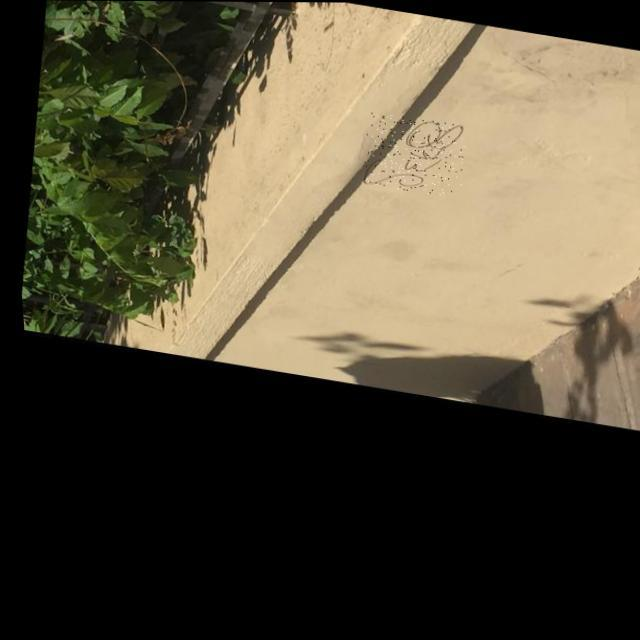-: (356, 110, 469, 199)
